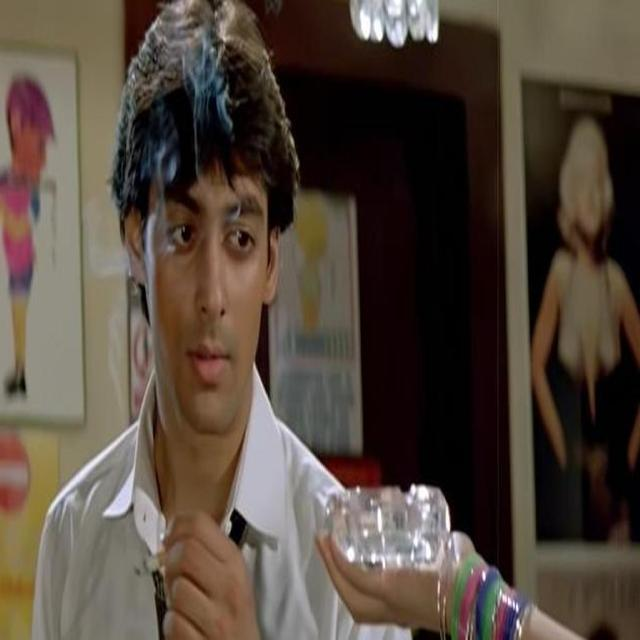smoking: (113, 10, 292, 610)
